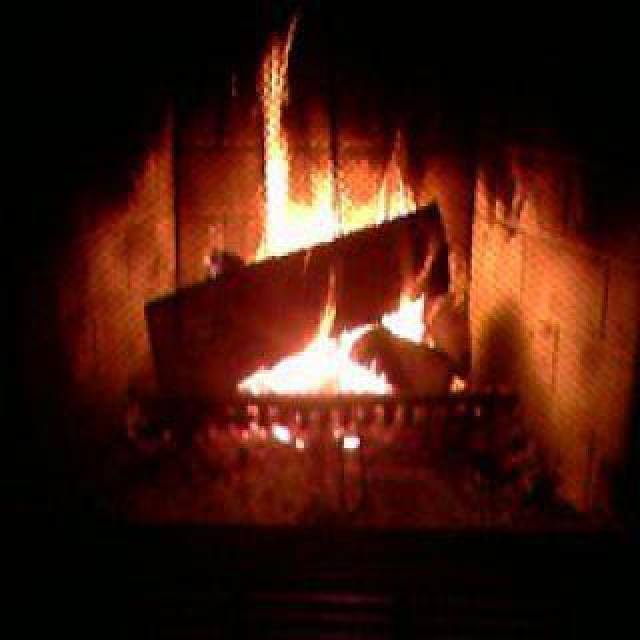Fire: (232, 32, 442, 420)
